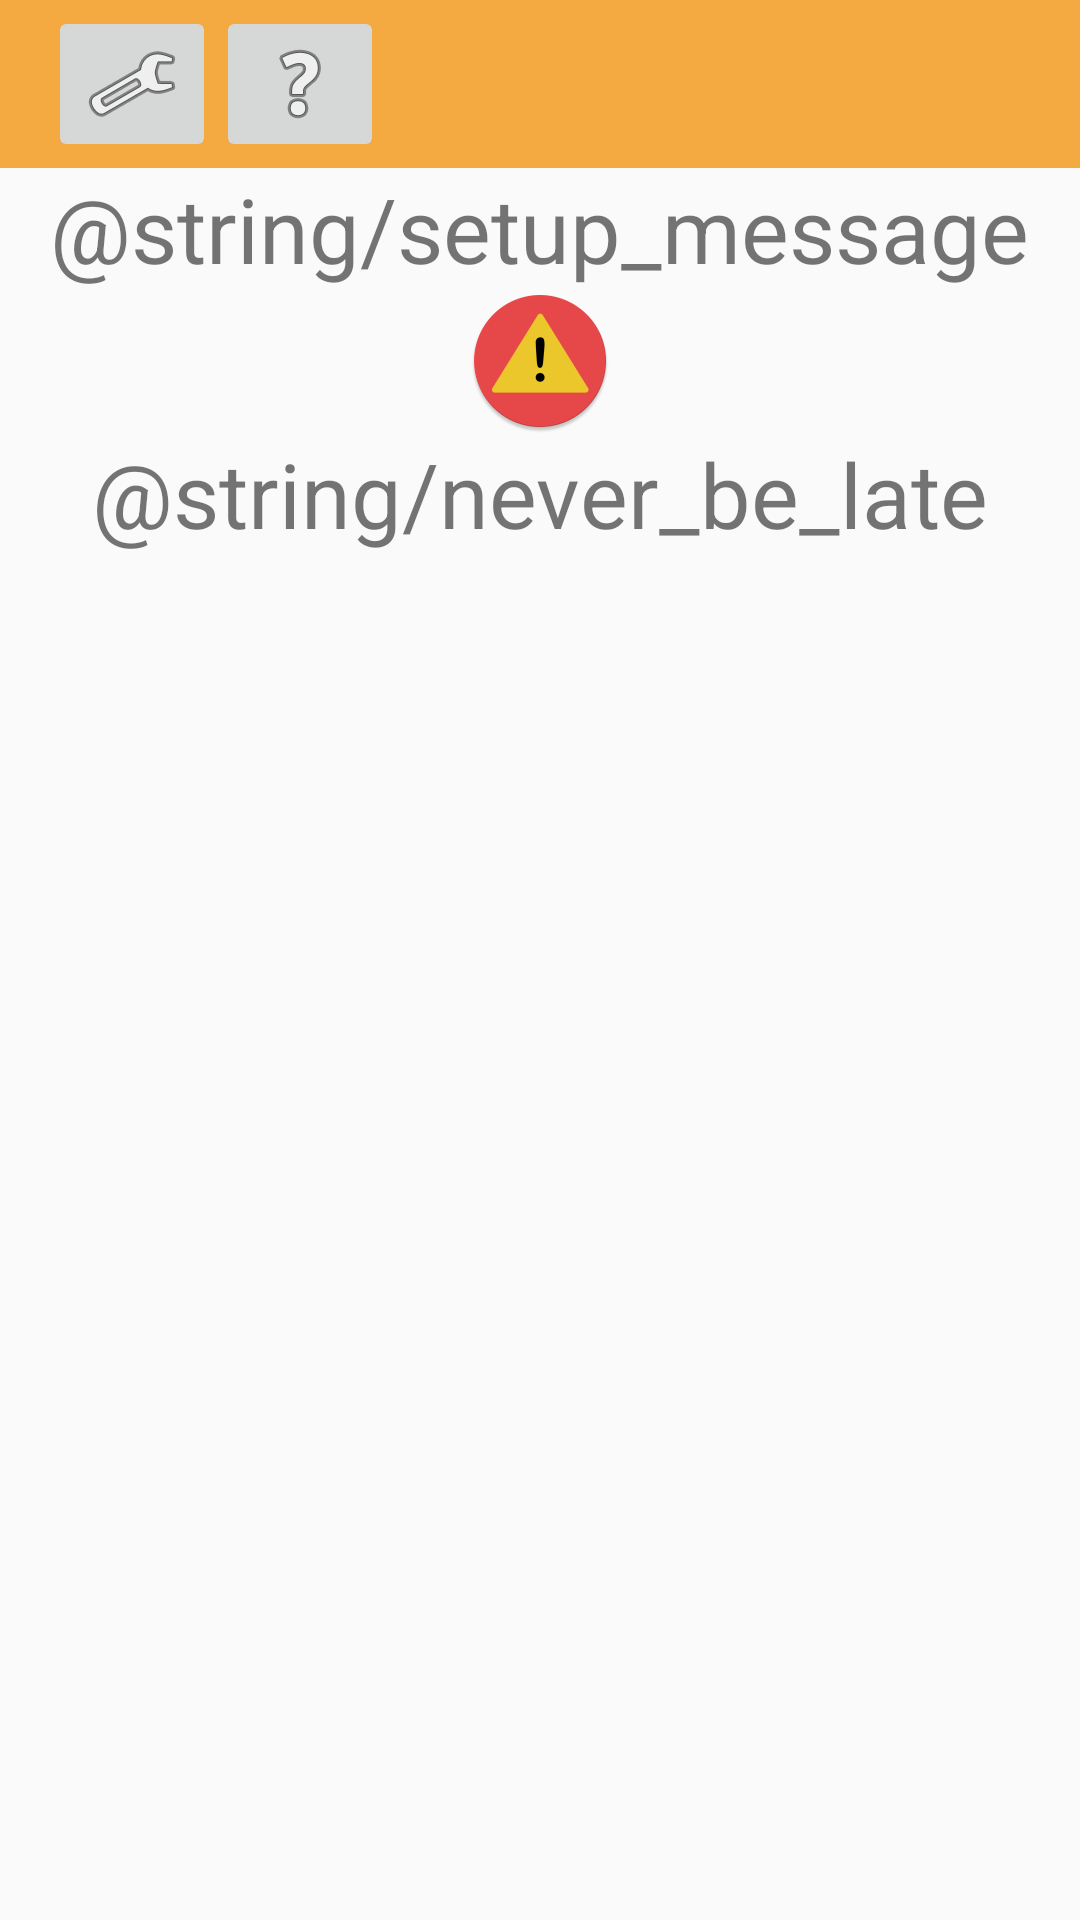

Named icons in this screenshot (1080 × 1920) and their centers, (x=x, y=y):
help: (x=300, y=84)
preferences: (x=132, y=84)
